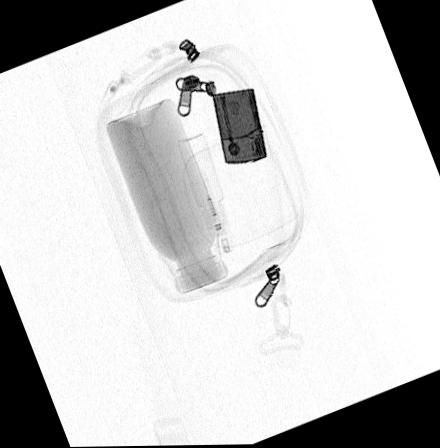Lighter: (210, 87, 266, 165)
